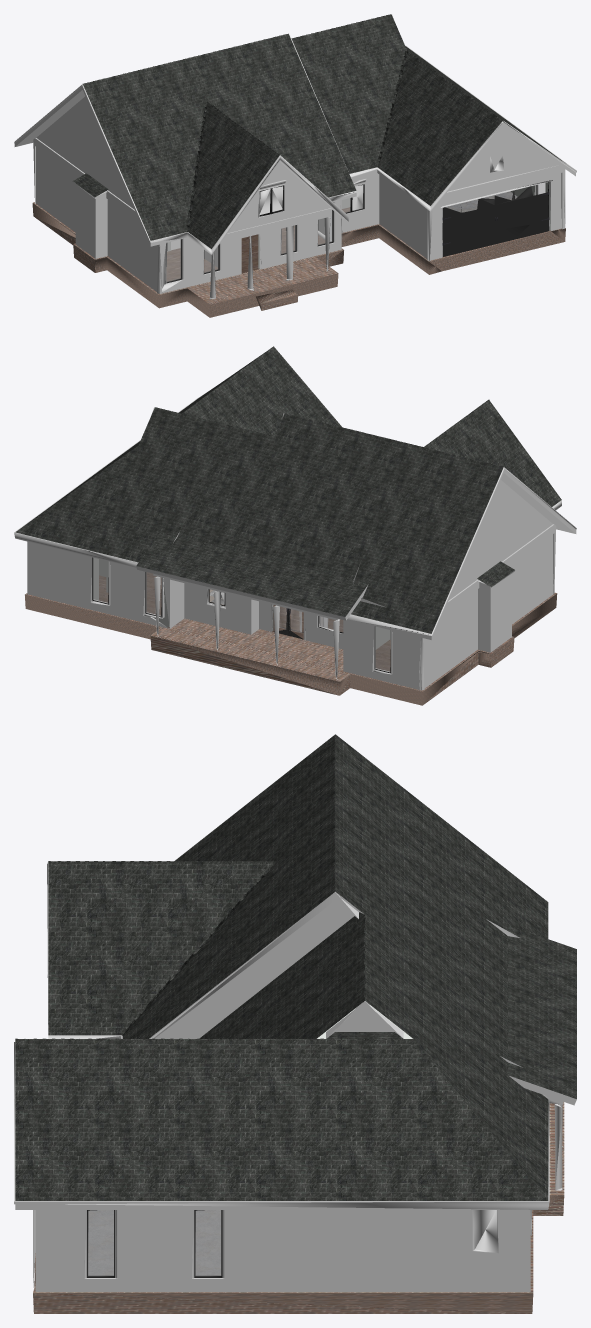
The model's file is american.far.glb.
3 renders of one model, top to bottom at view 1: azimuth 30°, elevation 25°; view 2: azimuth 150°, elevation 25°; view 3: azimuth 270°, elevation 25°, orthographic. The views are drawn at different scales.
Visible parts, largest first — view 1: Object_83, Object_9, Object_5, Object_26, Object_27, Object_6, Object_10, Object_7; view 2: Object_83, Object_9, Object_5, Object_27, Object_6, Object_10, Object_26; view 3: Object_83, Object_9, Object_5, Object_27, Object_7.
Boxes of the visible parts, bbox=[...] form: Object_83: bbox=[72, 14, 564, 248]; Object_9: bbox=[14, 14, 576, 299]; Object_5: bbox=[32, 202, 565, 317]; Object_26: bbox=[166, 182, 549, 283]; Object_27: bbox=[167, 183, 544, 281]; Object_6: bbox=[166, 207, 349, 281]; Object_10: bbox=[167, 182, 550, 268]; Object_7: bbox=[442, 191, 550, 256]; Object_83: bbox=[15, 346, 561, 633]; Object_9: bbox=[14, 390, 576, 690]; Object_5: bbox=[25, 592, 557, 705]; Object_27: bbox=[93, 558, 390, 671]; Object_6: bbox=[98, 572, 390, 671]; Object_10: bbox=[93, 558, 390, 649]; Object_26: bbox=[92, 557, 390, 673]; Object_83: bbox=[15, 734, 576, 1200]; Object_9: bbox=[14, 770, 576, 1291]; Object_5: bbox=[33, 1102, 564, 1313]; Object_27: bbox=[88, 1210, 221, 1275]; Object_7: bbox=[88, 1210, 220, 1275].
Size of the model in its own units: 19.5 by 8.64 by 15.47.
19 materials, 13 textured.
